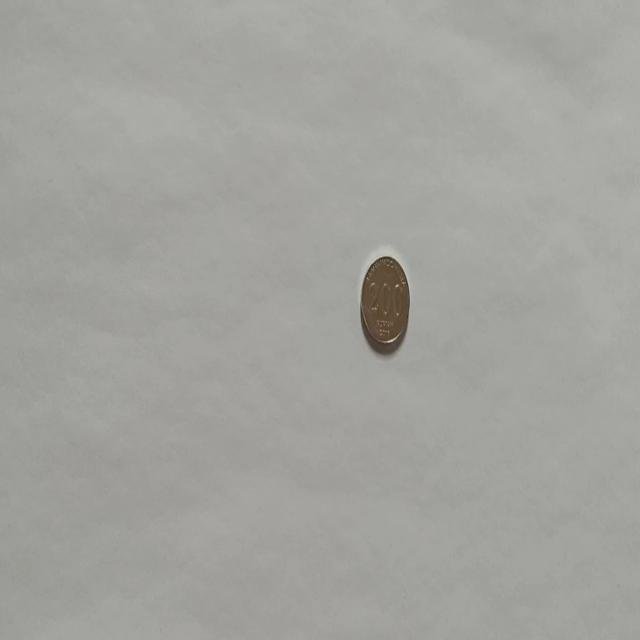dua ratus rupiah: (360, 253, 410, 347)
